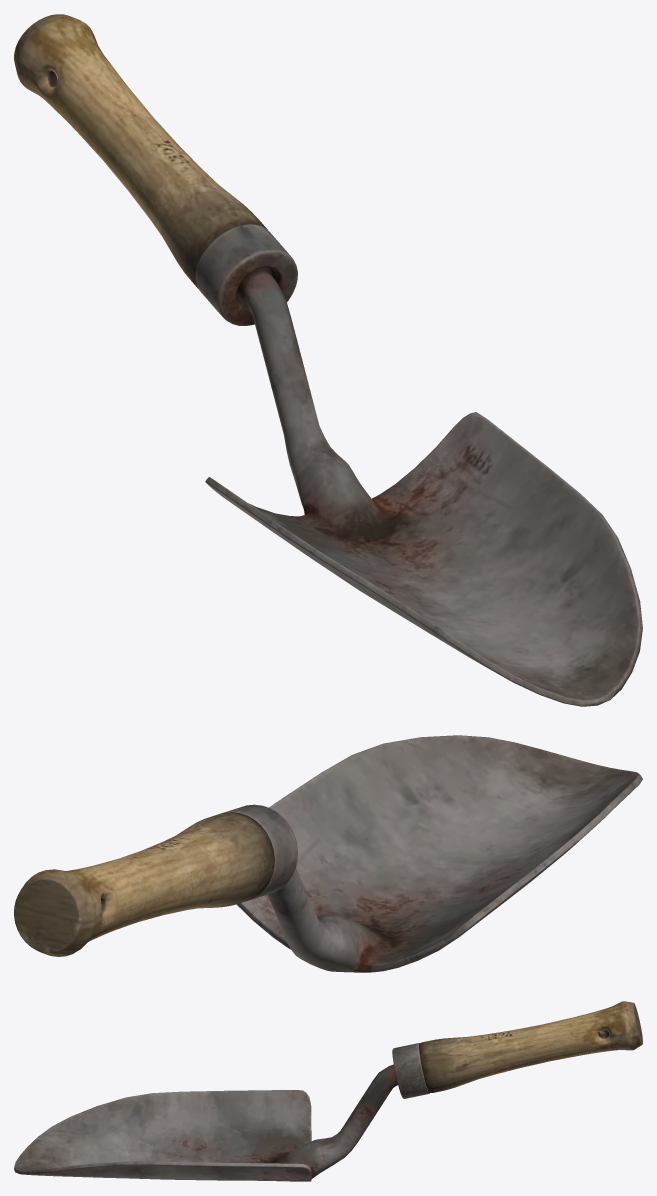
Rendered from trowel_01.glb.
The picture shows the model from 3 angles, top to bottom: view 1: azimuth 30°, elevation 25°; view 2: azimuth 150°, elevation 25°; view 3: azimuth 270°, elevation 25°; orthographic projection. The views are drawn at different scales.
Visible parts, largest first — view 1: trowel_01; view 2: trowel_01; view 3: trowel_01.
Boxes of the visible parts, bbox=[...] form: trowel_01: bbox=[14, 14, 642, 706]; trowel_01: bbox=[14, 735, 642, 972]; trowel_01: bbox=[14, 1001, 642, 1181].
Bounding box in the file's own units: 0.0991 × 0.1026 × 0.3468.
1 material, 1 textured.
